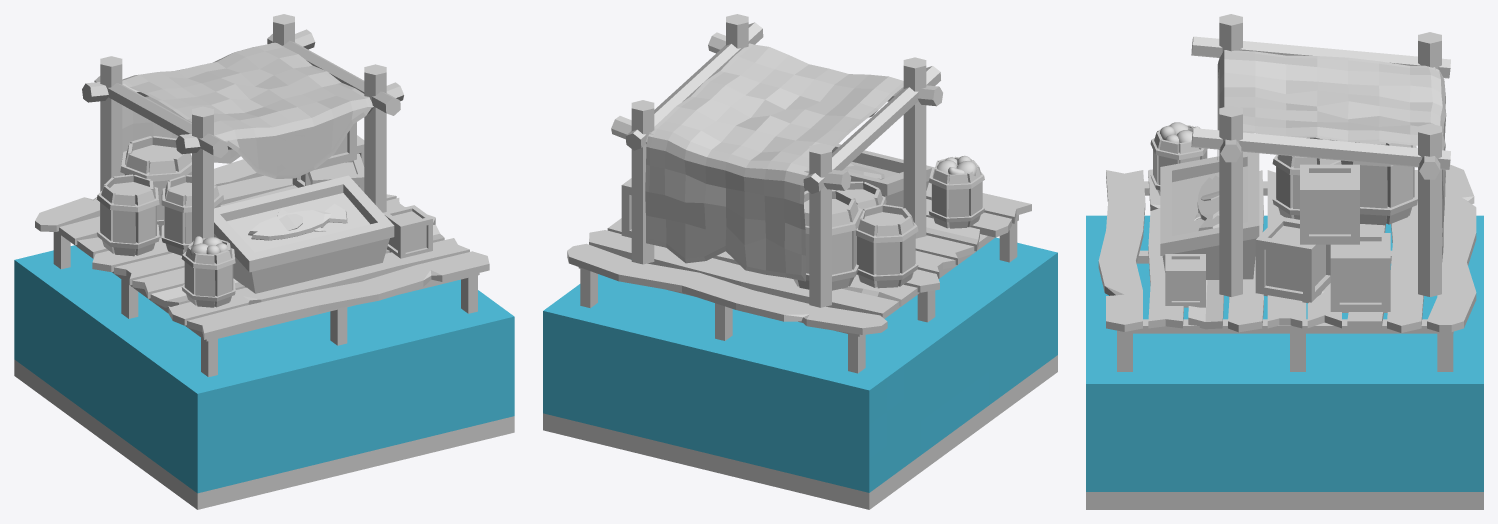
The model's file is PortShop3.fbx.
3 views of the same model, side by side, from view 1: azimuth 30°, elevation 25°; view 2: azimuth 150°, elevation 25°; view 3: azimuth 270°, elevation 25° (orthographic). The views are drawn at different scales.
Visible parts, largest first — view 1: PortShop1.003; view 2: PortShop1.003; view 3: PortShop1.003.
Part boxes in pixels (x1,y1,x2,y2): PortShop1.003: [14, 14, 514, 509]; PortShop1.003: [543, 14, 1057, 509]; PortShop1.003: [1086, 14, 1483, 509].
Bounding box in the file's own units: 2 × 2 × 2.
